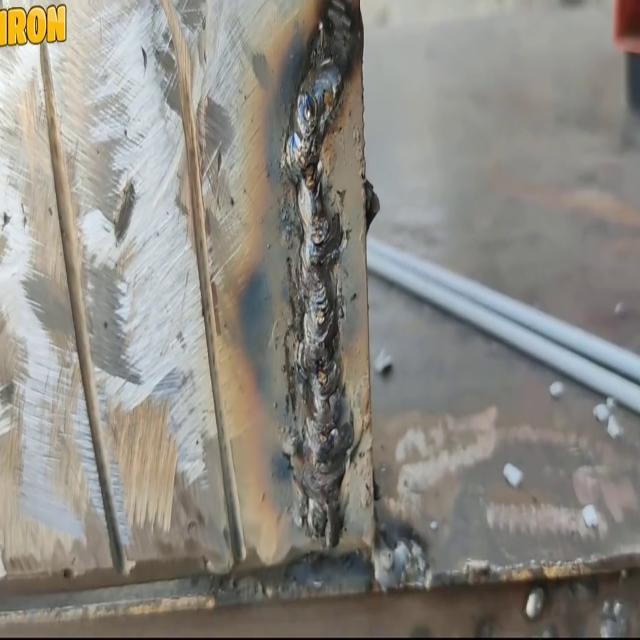Bad Welding: (279, 7, 354, 545)
